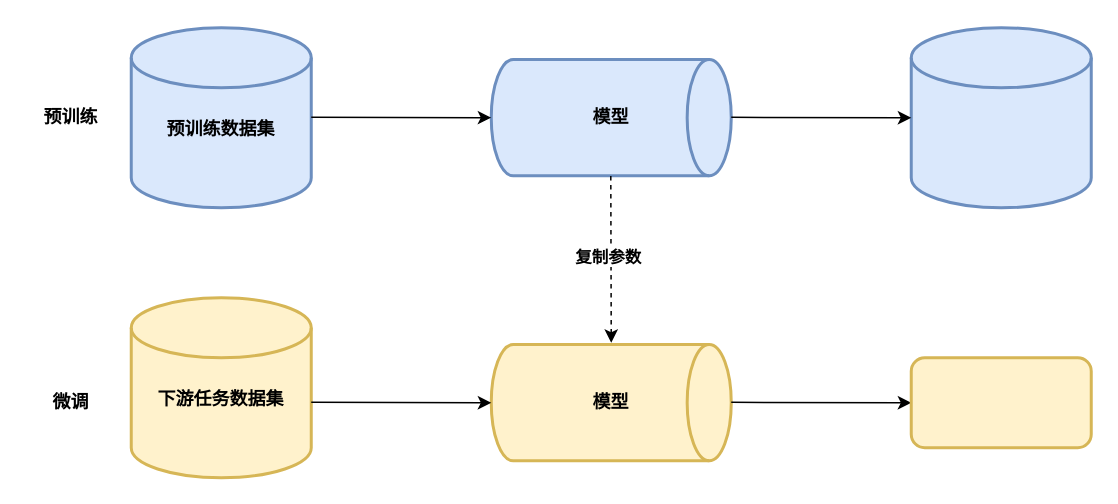
Image size: 1118x504. Some labels were removed from this diagram. The shapes that lost their labels are listed below. From the top down, each one's box as (x1, y1, x2, y2) in pixels, then its label:
(909, 26, 1092, 208): 预训练任务1 预训练任务2 ......
(909, 356, 1092, 448): 下载任务
